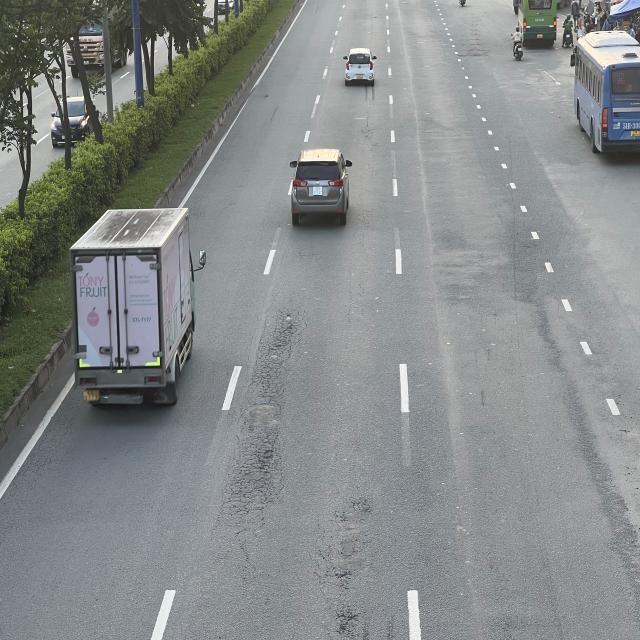car: (290, 151, 355, 229), (344, 48, 377, 86)
coach: (570, 31, 638, 155), (514, 0, 558, 44)
truck: (74, 203, 208, 407)
